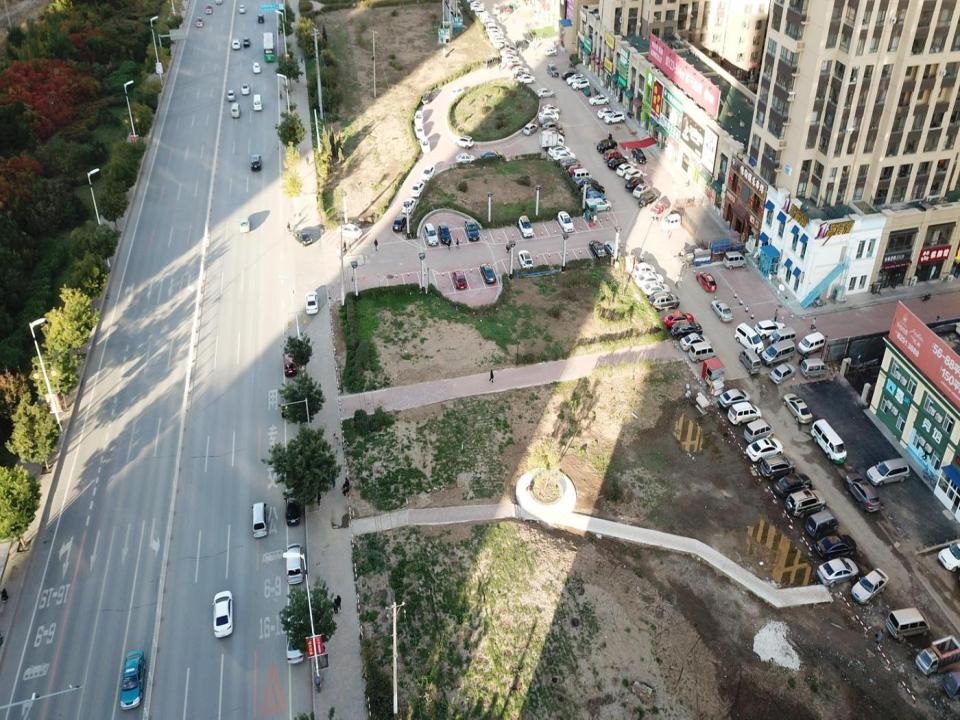bus: (261, 32, 275, 62)
car: (851, 566, 889, 605), (846, 472, 880, 514), (786, 487, 827, 521), (121, 651, 146, 706), (817, 556, 858, 588), (814, 534, 856, 564), (212, 591, 234, 640), (866, 461, 909, 483), (775, 472, 810, 499), (782, 394, 812, 425), (762, 453, 794, 480), (747, 436, 780, 462), (286, 616, 303, 666), (728, 402, 760, 427), (937, 542, 960, 576), (719, 388, 750, 411), (284, 486, 301, 527), (670, 320, 702, 340), (769, 362, 794, 386), (634, 272, 663, 292), (711, 298, 734, 322), (664, 310, 694, 328), (651, 293, 681, 311), (640, 282, 670, 299), (680, 333, 710, 349), (282, 349, 298, 377), (696, 272, 716, 294), (632, 262, 656, 279), (589, 240, 606, 263), (336, 224, 362, 239), (518, 216, 534, 238), (518, 250, 534, 272), (558, 210, 573, 233), (280, 390, 292, 418), (305, 292, 320, 314), (294, 229, 312, 247), (590, 199, 611, 214), (632, 183, 651, 199), (605, 240, 620, 260), (638, 193, 658, 208), (424, 223, 437, 246), (438, 223, 451, 246), (603, 111, 625, 124), (481, 264, 496, 283), (454, 135, 474, 149), (597, 139, 617, 153), (624, 177, 642, 192), (603, 149, 622, 163), (480, 149, 502, 161), (466, 219, 478, 241), (559, 157, 581, 169), (553, 150, 575, 162), (583, 182, 603, 195), (625, 168, 642, 183), (453, 270, 467, 288), (574, 178, 595, 190), (567, 166, 588, 178), (542, 126, 563, 138), (541, 122, 562, 134), (538, 110, 559, 122), (650, 202, 668, 216), (616, 163, 634, 177), (632, 146, 646, 164), (585, 192, 605, 204), (550, 144, 570, 156), (538, 116, 558, 128), (542, 105, 562, 117), (402, 198, 416, 215), (456, 152, 474, 165), (419, 136, 432, 154), (608, 157, 626, 170), (597, 107, 615, 120), (589, 95, 610, 106), (572, 78, 590, 90), (250, 155, 262, 172), (535, 88, 555, 98), (239, 215, 250, 233), (414, 123, 425, 141), (422, 167, 435, 182), (508, 62, 527, 72), (505, 60, 524, 70), (568, 73, 585, 84), (392, 217, 405, 231), (450, 86, 465, 98), (513, 72, 531, 82), (511, 66, 529, 76), (501, 53, 519, 63), (500, 48, 518, 58), (561, 70, 579, 80), (411, 183, 424, 196), (523, 124, 537, 136), (422, 91, 433, 105), (547, 64, 558, 78), (516, 75, 535, 83), (414, 110, 423, 126), (523, 31, 533, 44), (542, 49, 556, 58), (515, 39, 525, 51), (196, 16, 205, 28), (231, 38, 240, 50), (226, 90, 235, 102), (242, 84, 250, 96), (253, 62, 261, 73), (206, 4, 214, 14), (258, 12, 265, 23), (243, 38, 250, 48), (240, 4, 246, 14)
truck: (916, 635, 959, 674), (540, 130, 564, 150)
van: (811, 420, 846, 464), (888, 608, 930, 643), (762, 339, 795, 367), (284, 544, 304, 590), (737, 324, 763, 356), (806, 511, 839, 536), (797, 331, 825, 357), (250, 502, 269, 539), (744, 420, 774, 443), (740, 349, 762, 376), (689, 342, 714, 364), (770, 326, 796, 347), (801, 358, 826, 379), (723, 250, 747, 269), (662, 214, 681, 231), (572, 169, 592, 183), (483, 57, 498, 70), (253, 94, 263, 112), (230, 102, 240, 118), (492, 3, 500, 16)
